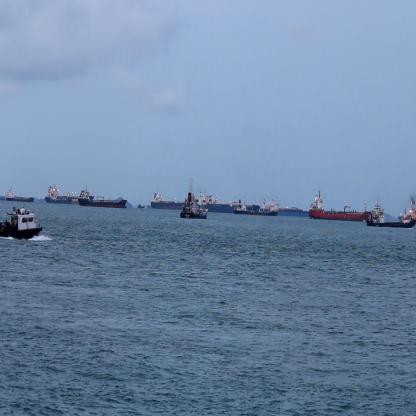Container Ship: (307, 187, 373, 221), (366, 199, 415, 229), (195, 187, 246, 214), (78, 186, 129, 210), (234, 194, 280, 219), (265, 194, 312, 218), (148, 187, 193, 208), (180, 193, 210, 221), (45, 186, 73, 206), (4, 187, 36, 203), (56, 190, 85, 204), (135, 201, 146, 211)
